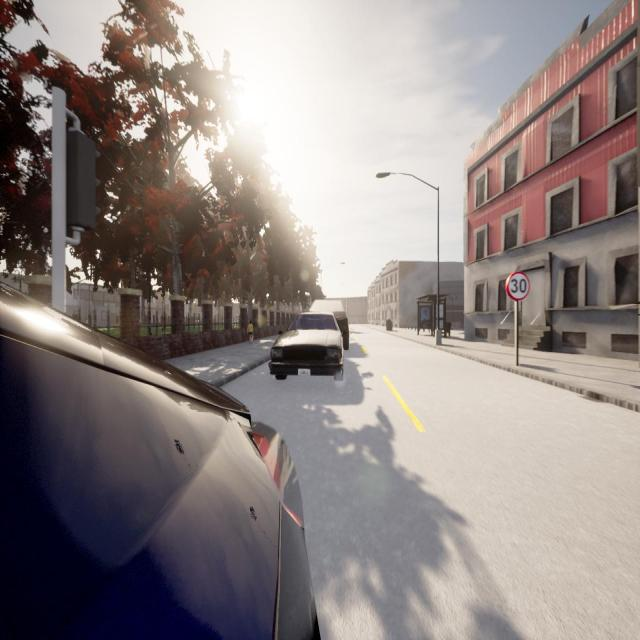Pedestrian: (247, 318, 254, 344)
Traffic_Signs: (506, 273, 530, 300)
Vehicle: (0, 279, 318, 640), (268, 312, 344, 382), (310, 299, 349, 351)
traffic_light: (66, 130, 102, 234)
